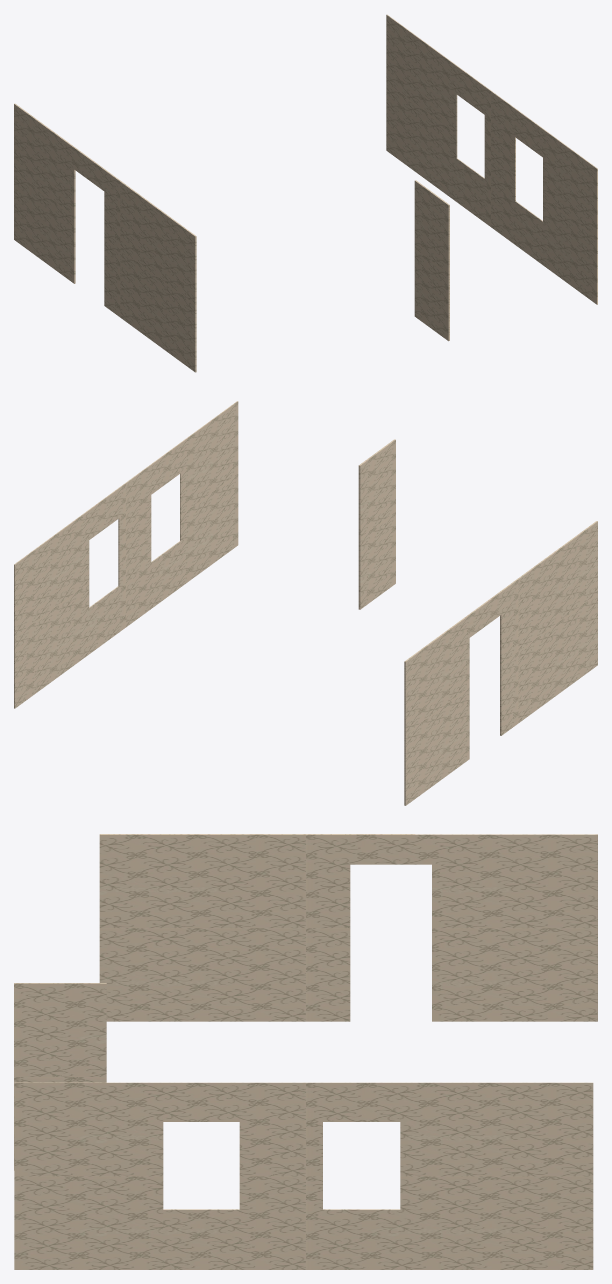
The model's file is BedroomWalls1.fbx.
The picture shows the model from 3 angles, top to bottom: view 1: azimuth 30°, elevation 25°; view 2: azimuth 150°, elevation 25°; view 3: azimuth 270°, elevation 25°; orthographic projection. The views are drawn at different scales.
Visible parts, largest first — view 1: polySurface18; view 2: polySurface18; view 3: polySurface18.
Boxes of the visible parts, x1,y1,x2,y2 form: polySurface18: [14, 14, 597, 372]; polySurface18: [14, 401, 597, 805]; polySurface18: [14, 834, 597, 1269].
Bounding box in the file's own units: 8.58 × 3 × 8.5.
1 material, 1 textured.
